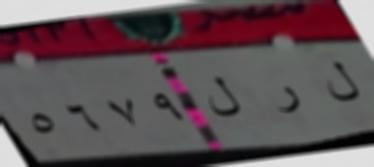5: (28, 106, 58, 144)
6: (66, 98, 104, 142)
7: (108, 95, 140, 134)
9: (153, 88, 183, 130)
laam: (324, 56, 362, 111), (206, 75, 244, 128)
raa: (274, 81, 303, 124)
